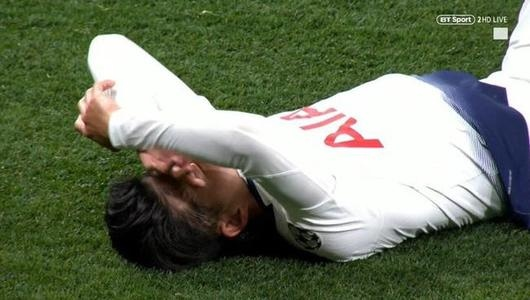falling: (57, 3, 530, 289)
